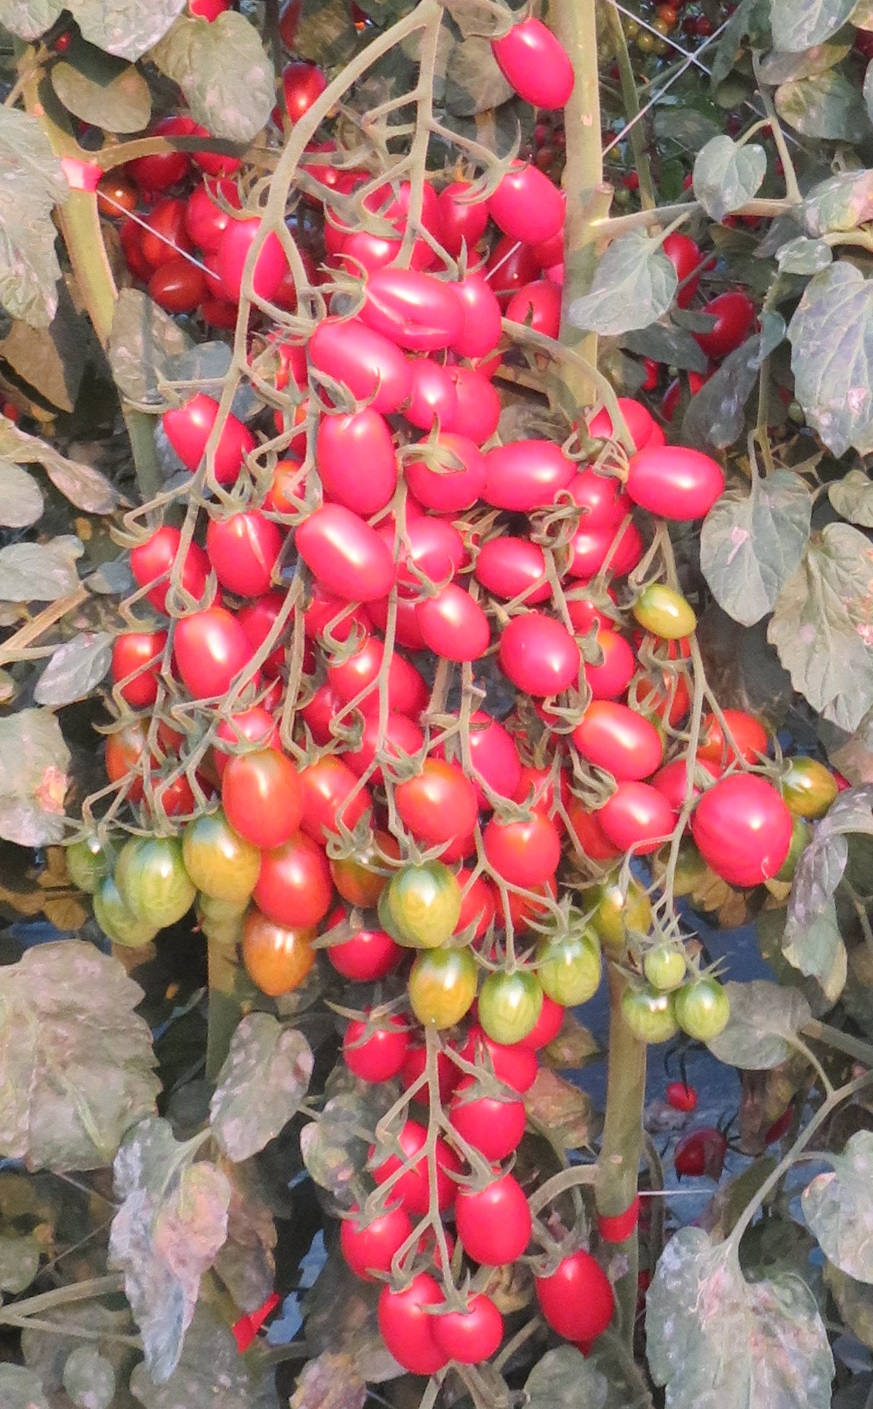green: (374, 853, 465, 957), (178, 814, 254, 915), (114, 834, 185, 926), (404, 946, 477, 1030), (592, 878, 659, 952), (481, 959, 539, 1044), (535, 928, 594, 1002), (616, 985, 680, 1047), (780, 766, 841, 815), (648, 592, 697, 647), (646, 933, 688, 997), (681, 981, 725, 1041)
orange: (246, 911, 316, 1001)
red: (288, 501, 390, 607), (481, 8, 585, 111), (694, 770, 781, 891), (316, 399, 404, 518), (316, 314, 420, 408), (443, 1163, 533, 1270), (487, 166, 585, 257), (397, 759, 485, 857), (162, 390, 259, 480), (535, 1250, 620, 1349), (467, 434, 580, 504), (220, 756, 301, 852), (612, 452, 735, 515), (499, 605, 580, 701), (362, 273, 475, 341), (206, 505, 285, 601), (377, 1272, 445, 1376), (171, 607, 255, 686), (448, 1078, 523, 1165), (409, 439, 483, 517), (593, 781, 672, 855), (567, 704, 656, 770), (265, 840, 333, 921), (341, 1194, 409, 1273), (480, 530, 561, 592), (414, 586, 483, 656), (433, 1291, 500, 1363), (348, 1015, 400, 1084), (494, 826, 564, 873)
